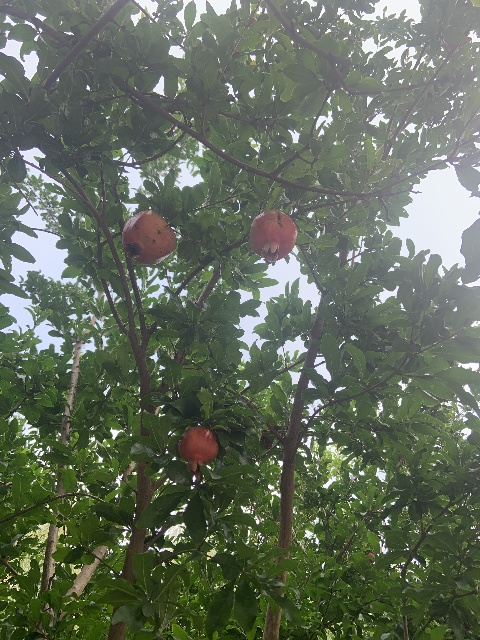ripe: (121, 210, 176, 265), (249, 210, 297, 262), (177, 426, 218, 481)
